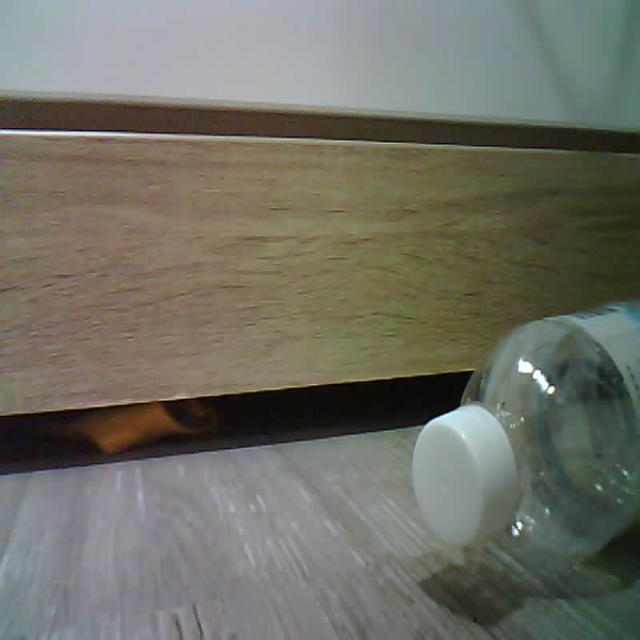bottle: (412, 299, 639, 556)
